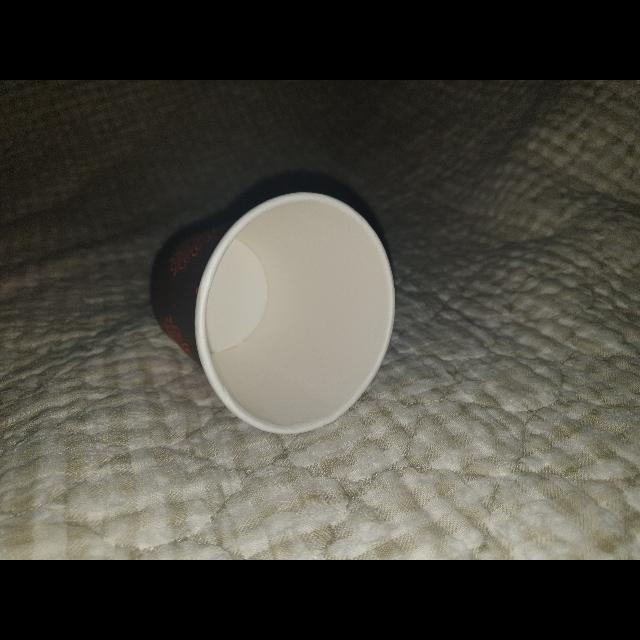trash: (150, 181, 404, 443)
